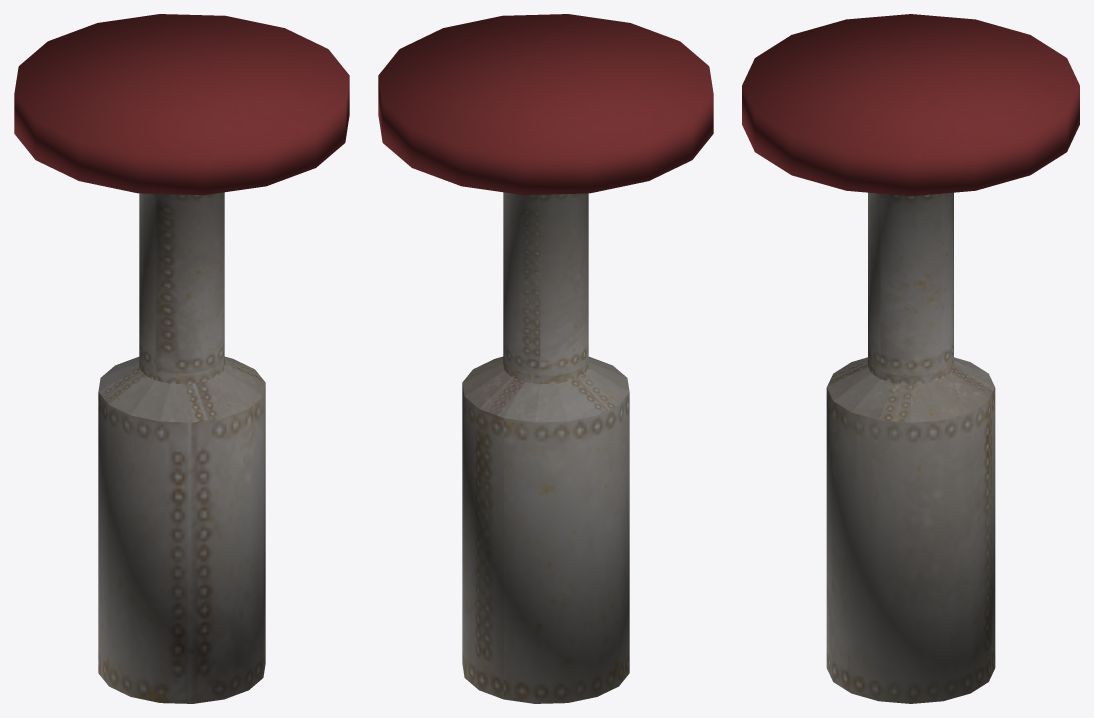
File: reroute_stool.fbx
3 views of the same model, side by side, from view 1: azimuth 30°, elevation 25°; view 2: azimuth 150°, elevation 25°; view 3: azimuth 270°, elevation 25° (orthographic).
Visible parts, largest first — view 1: Cylinder; view 2: Cylinder; view 3: Cylinder.
Part boxes in pixels (left/top/right/bottom): Cylinder: left=14, top=14, right=349, bottom=703; Cylinder: left=378, top=14, right=713, bottom=703; Cylinder: left=742, top=14, right=1079, bottom=703.
Bounding box in the file's own units: 401 × 764 × 401.
2 materials, 2 textured.
